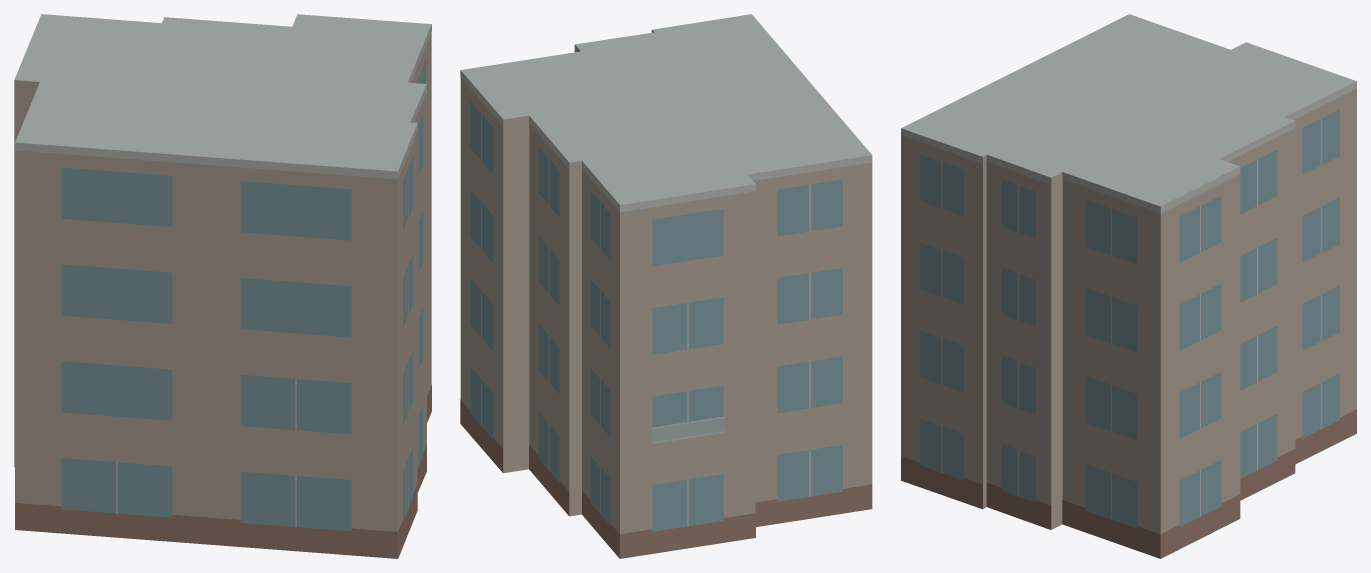
Rendered from survey-upis-32777510.glb.
The picture shows the model from 3 angles, left to right: view 1: azimuth 30°, elevation 25°; view 2: azimuth 150°, elevation 25°; view 3: azimuth 270°, elevation 25°; orthographic projection. The views are drawn at different scales.
Visible parts, largest first — view 1: survey-upis-32777510.tmp; view 2: survey-upis-32777510.tmp; view 3: survey-upis-32777510.tmp.
Part boxes in pixels (<box>): survey-upis-32777510.tmp: <box>14,14,431,558</box>; survey-upis-32777510.tmp: <box>460,14,872,558</box>; survey-upis-32777510.tmp: <box>901,14,1356,558</box>.
Bounding box in the file's own units: 14.14 × 12.06 × 14.14.
